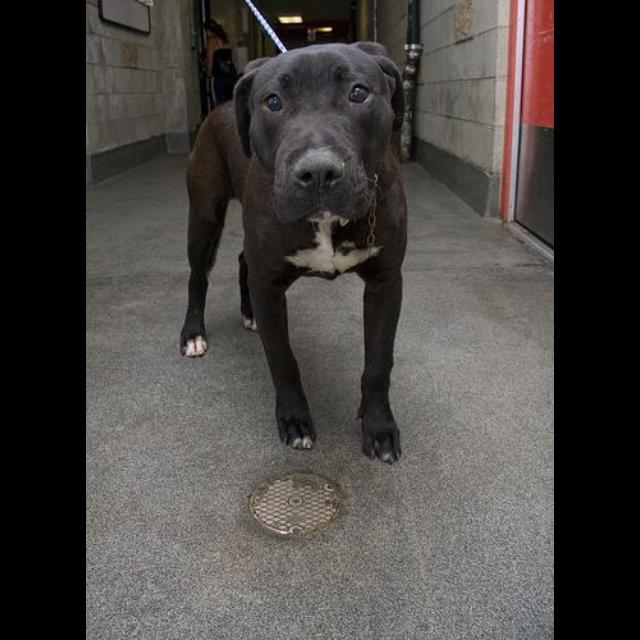amstaff: (179, 40, 409, 464)
